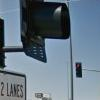Traffic light: (64, 52, 90, 80)
